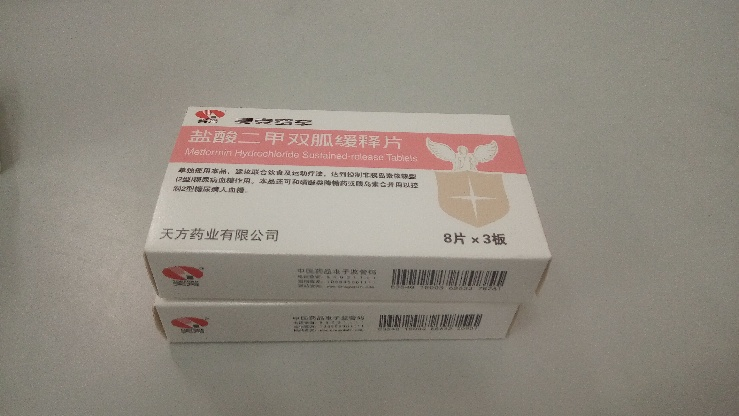pillbox: (143, 107, 550, 301), (154, 297, 513, 345)
